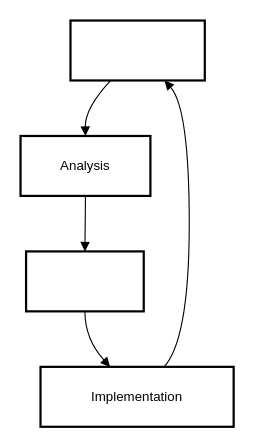
This 253x446 diagram has some shape labels left out. Here are the shapes that lost their labels. From the top down, the centre of each, then its label:
At (x=137, y=50): "Planning".
At (x=84, y=281): "Design".
